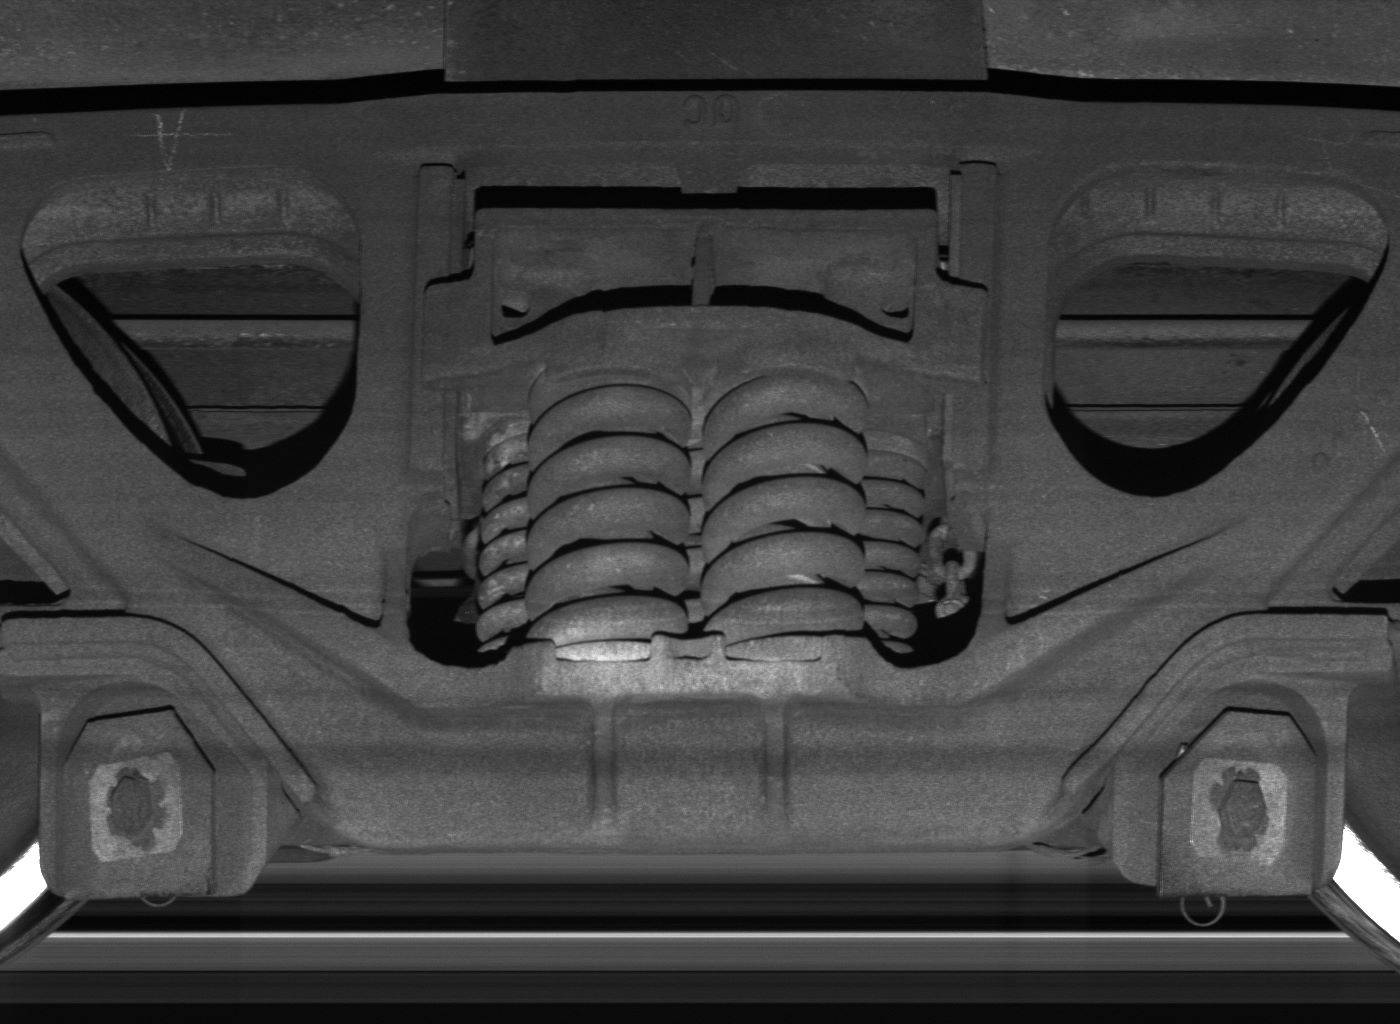normal: (37, 683, 267, 902), (1112, 684, 1341, 901)
